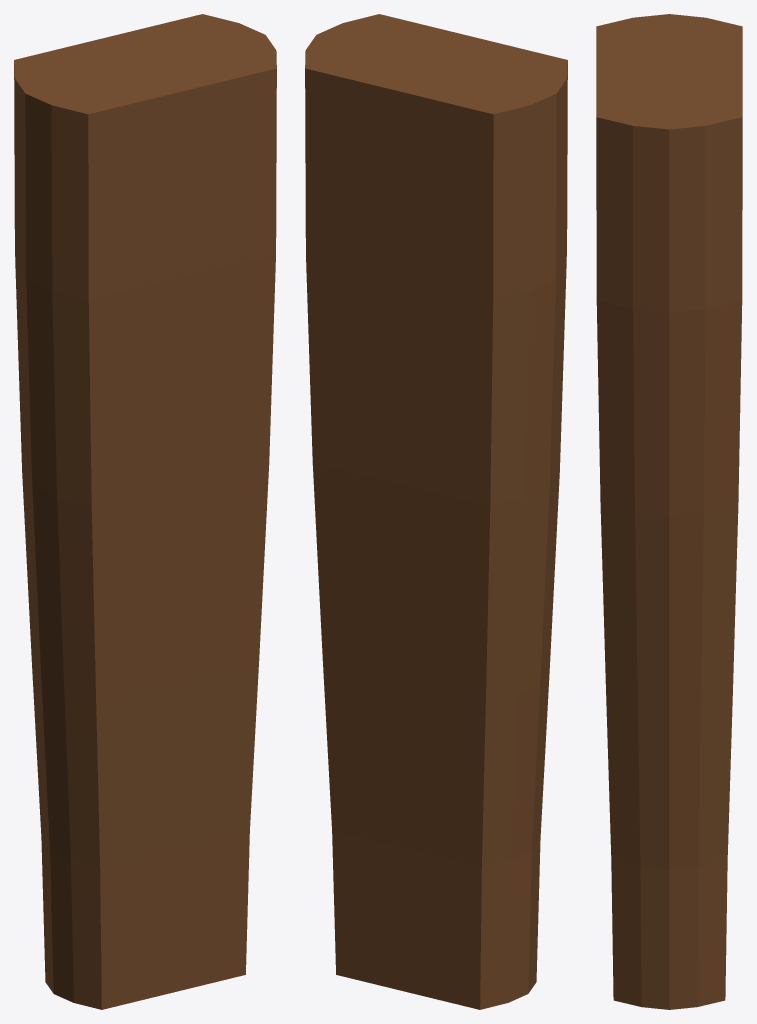
Rendered from ModularSwordKit_Griff01.fbx.
3 renders of one model, left to right at view 1: azimuth 30°, elevation 25°; view 2: azimuth 150°, elevation 25°; view 3: azimuth 270°, elevation 25°, orthographic.
Parts seen in each view (by area): view 1: Grip01; view 2: Grip01; view 3: Grip01.
Boxes of the visible parts, x1,y1,x2,y2 form: Grip01: (14, 14, 276, 1009); Grip01: (305, 14, 567, 1009); Grip01: (596, 14, 742, 1009).
Size of the model in its own units: 16.04 by 57.88 by 8.59.
